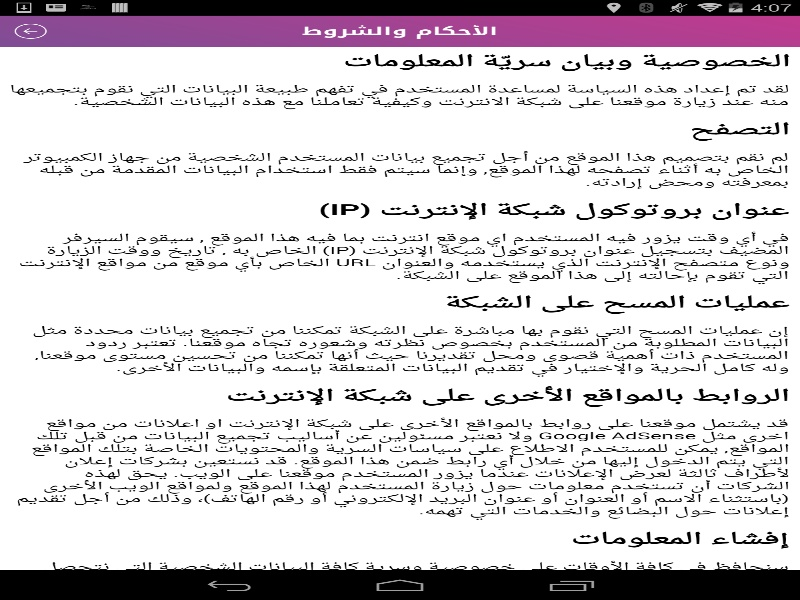Button: (293, 317, 505, 349)
Input: (40, 167, 698, 188), (40, 207, 698, 228), (40, 247, 698, 268)
